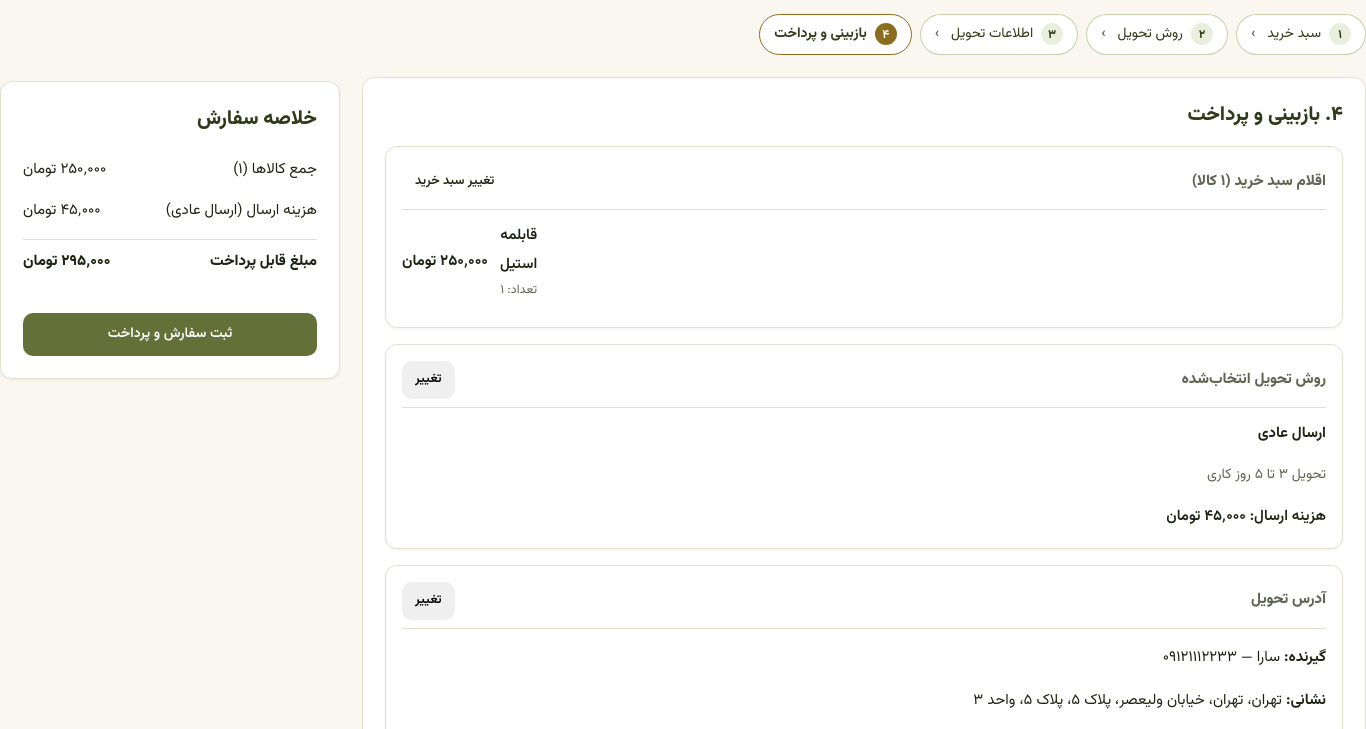
Test: Place-order button & flow validation (Task 2) › shows a friendly Persian message when the server rate-limits (429)
Check: the heading "۴. بازبینی و پرداخت" is shown, box x1=1187 y1=99 x2=1343 y2=131
Click the button "ثبت سفارش و پرداخت".
click(170, 335)  # box x1=23 y1=313 x2=317 y2=357
(page scrolled)
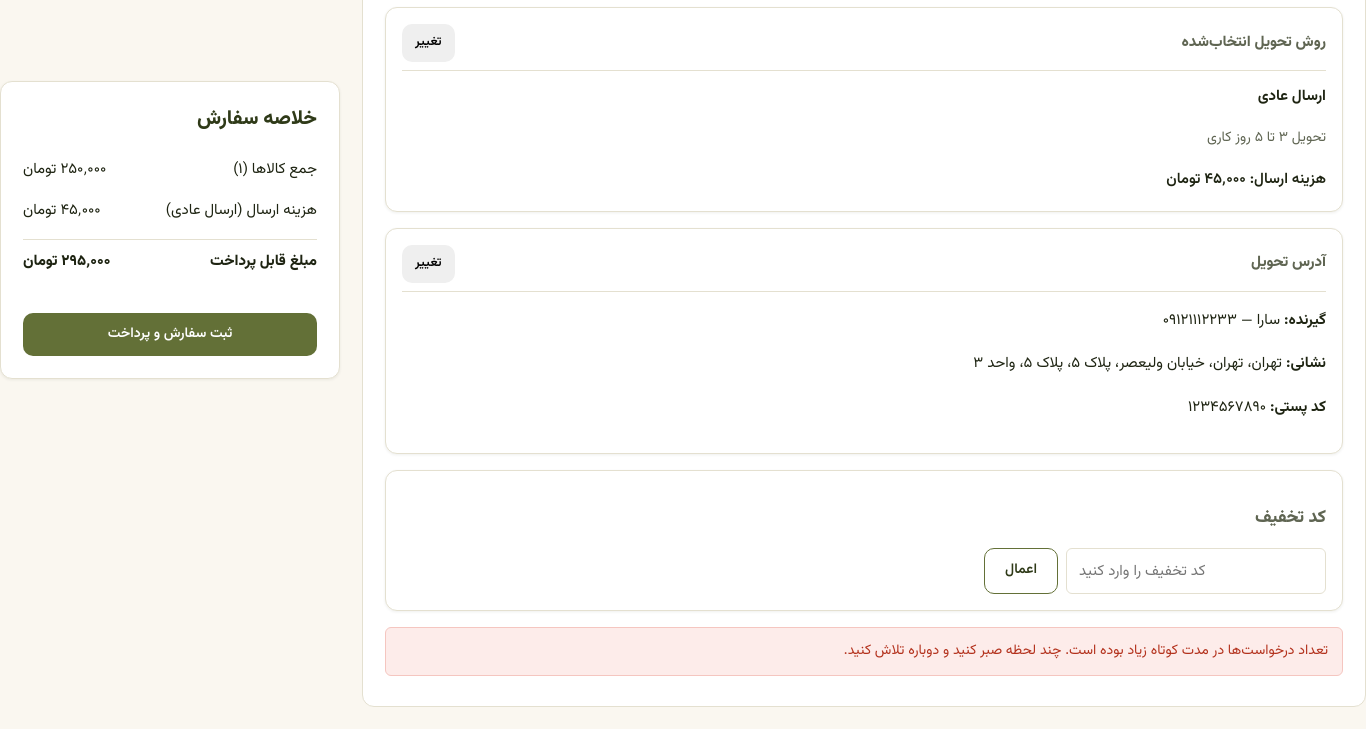
Check: the text "تعداد درخواست‌ها در مدت کوتاه زیاد بوده است" is shown, box x1=844 y1=640 x2=1328 y2=662
